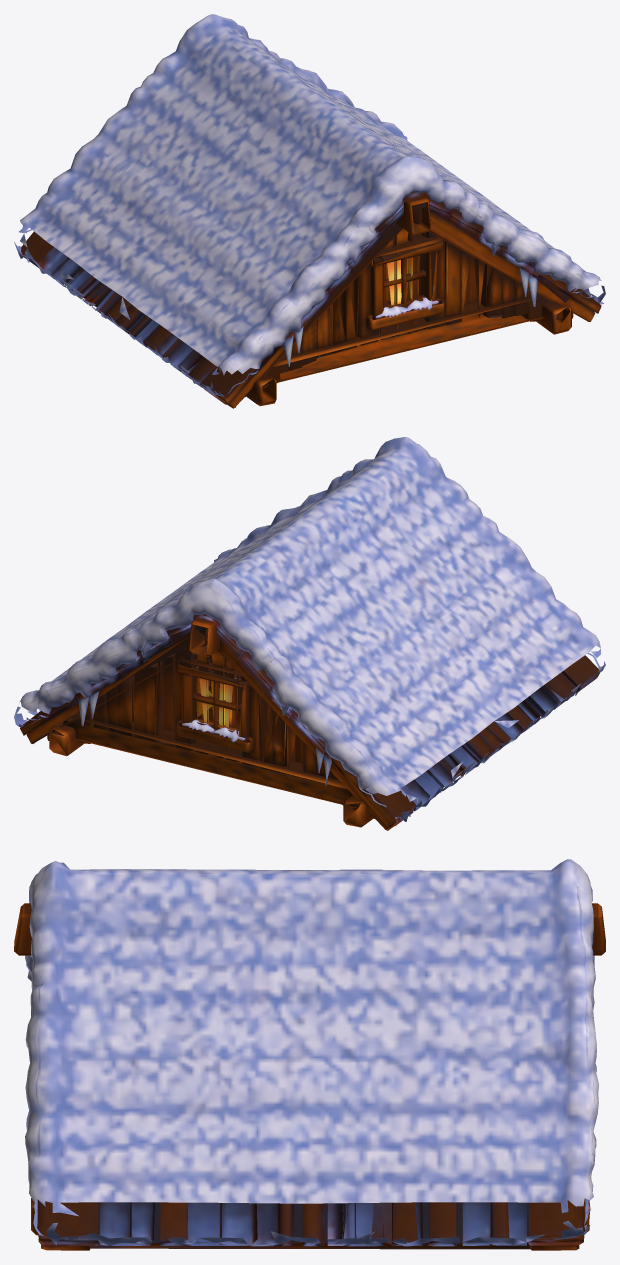
Rendered from HK_gable.glb.
3 renders of one model, top to bottom at view 1: azimuth 30°, elevation 25°; view 2: azimuth 150°, elevation 25°; view 3: azimuth 270°, elevation 25°, orthographic. The views are drawn at different scales.
Visible parts, largest first — view 1: geometry_0; view 2: geometry_0; view 3: geometry_0.
Boxes of the visible parts, <box> form: geometry_0: <box>14,14,605,408</box>; geometry_0: <box>14,437,605,830</box>; geometry_0: <box>14,859,605,1250</box>.
Bounding box in the file's own units: 0.9551 × 0.4805 × 0.9385.
Materials: 1 (1 with a texture image).
